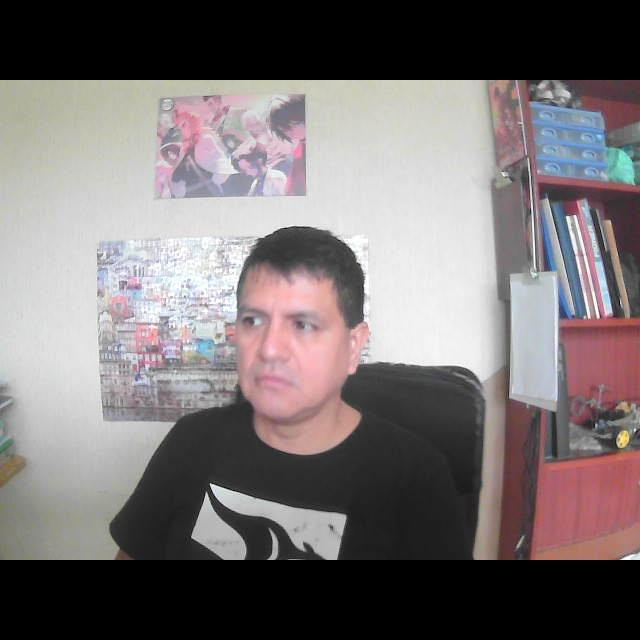cesar: (214, 216, 382, 464)
